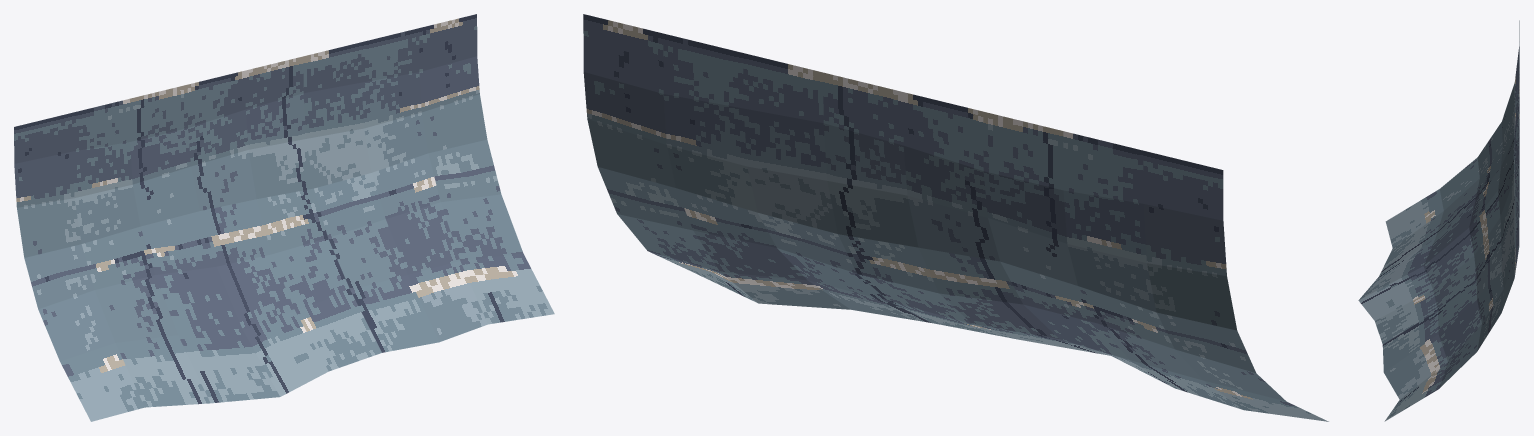
File: TER-07_Escarpe_recto_a.gltf
3 renders of one model, left to right at view 1: azimuth 30°, elevation 25°; view 2: azimuth 150°, elevation 25°; view 3: azimuth 270°, elevation 25°, orthographic. The views are drawn at different scales.
Visible parts, largest first — view 1: TER-07_Escarpe_recto_a; view 2: TER-07_Escarpe_recto_a; view 3: TER-07_Escarpe_recto_a.
Boxes of the visible parts, x1=… form: TER-07_Escarpe_recto_a: x1=14, y1=14, x2=554, y2=421; TER-07_Escarpe_recto_a: x1=583, y1=14, x2=1328, y2=421; TER-07_Escarpe_recto_a: x1=1358, y1=20, x2=1519, y2=421.
Bounding box in the file's own units: 4 × 2.03 × 1.39.
Materials: 1 (1 with a texture image).
